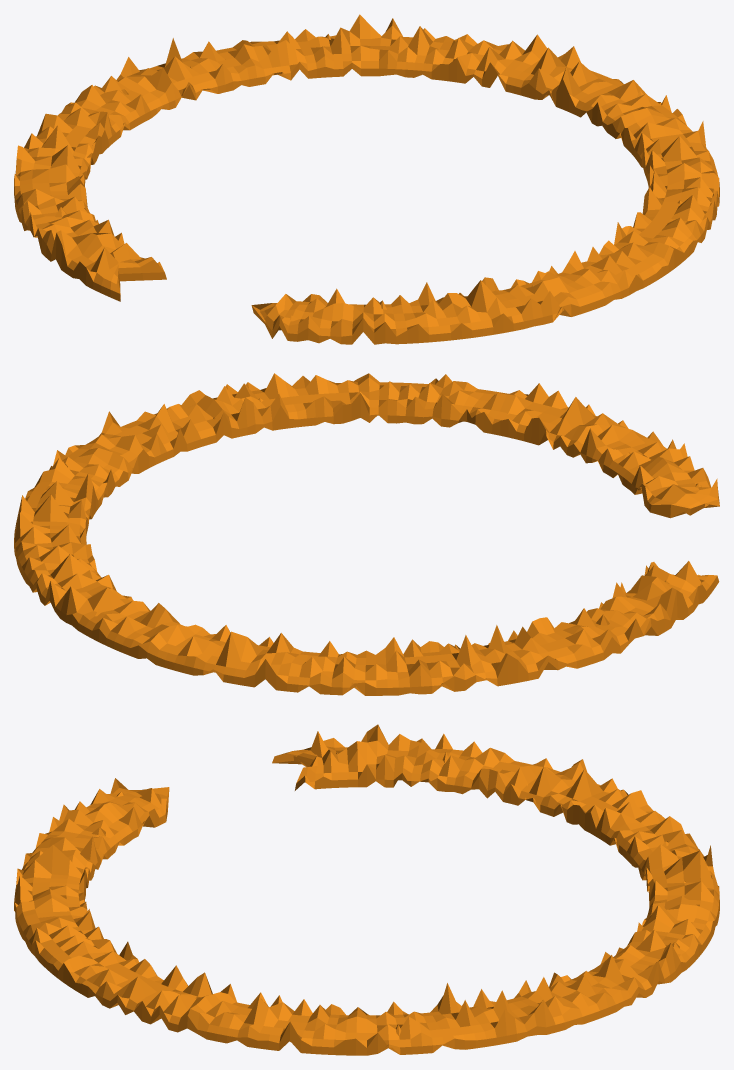
Rendered from hireco_3DScene_random-v1.glb.
3 views of the same model, one above another, from view 1: azimuth 30°, elevation 25°; view 2: azimuth 150°, elevation 25°; view 3: azimuth 270°, elevation 25° (orthographic).
Visible parts, largest first — view 1: ring_6_6; view 2: ring_6_6; view 3: ring_6_6.
Boxes of the visible parts, x1=… form: ring_6_6: x1=14, y1=14, x2=719, y2=344; ring_6_6: x1=14, y1=373, x2=719, y2=695; ring_6_6: x1=14, y1=724, x2=719, y2=1055.
Size of the model in its own units: 1.55 by 0.1035 by 1.55.
